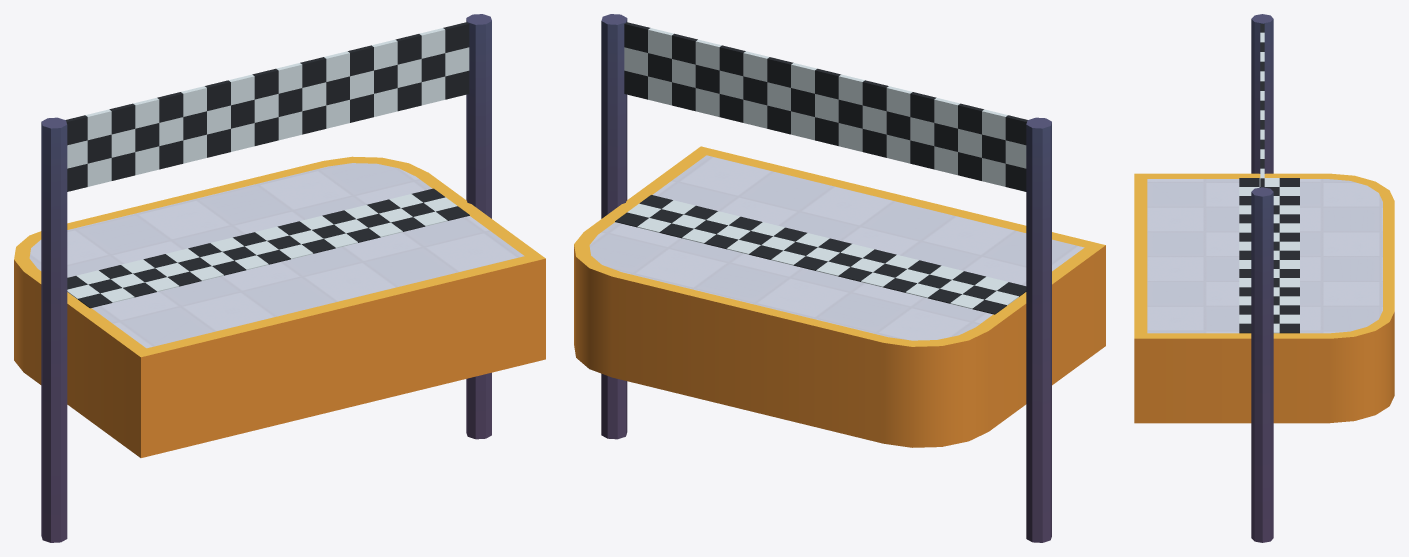
File: Finish segment.fbx
3 views of the same model, side by side, from view 1: azimuth 30°, elevation 25°; view 2: azimuth 150°, elevation 25°; view 3: azimuth 270°, elevation 25° (orthographic). The views are drawn at different scales.
Parts seen in each view (by area): view 1: Finish segment; view 2: Finish segment; view 3: Finish segment.
Boxes of the visible parts, x1=… form: Finish segment: x1=14, y1=14, x2=545, y2=542; Finish segment: x1=574, y1=14, x2=1105, y2=542; Finish segment: x1=1134, y1=14, x2=1394, y2=542.
Bounding box in the file's own units: 3323 × 2937 × 2000.
